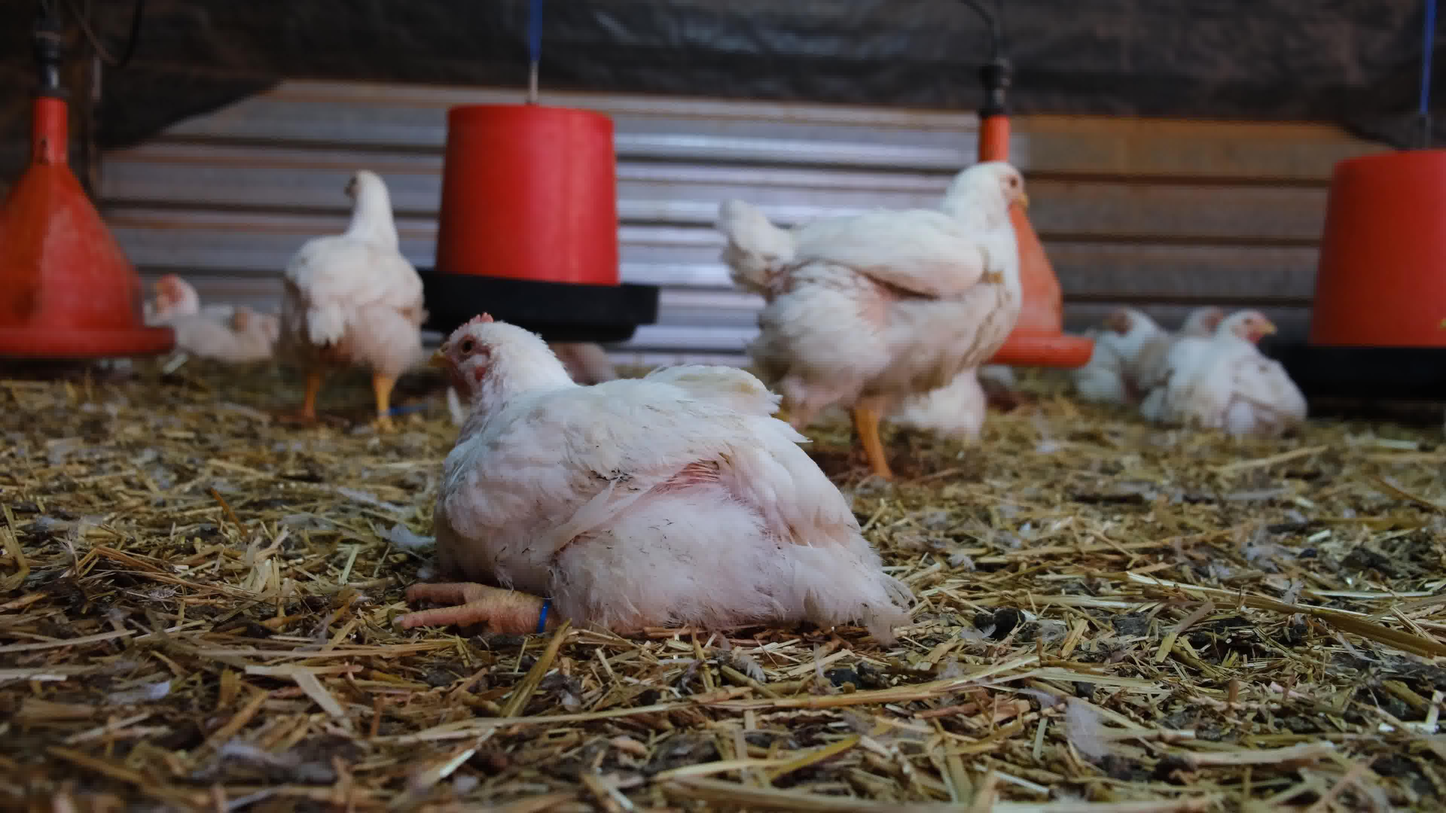AbNormal: (407, 320, 902, 657), (1167, 305, 1311, 434), (838, 358, 993, 458), (140, 269, 281, 375), (1079, 300, 1165, 420), (1169, 300, 1236, 425)
Normal: (719, 158, 1030, 486), (280, 164, 430, 438)
